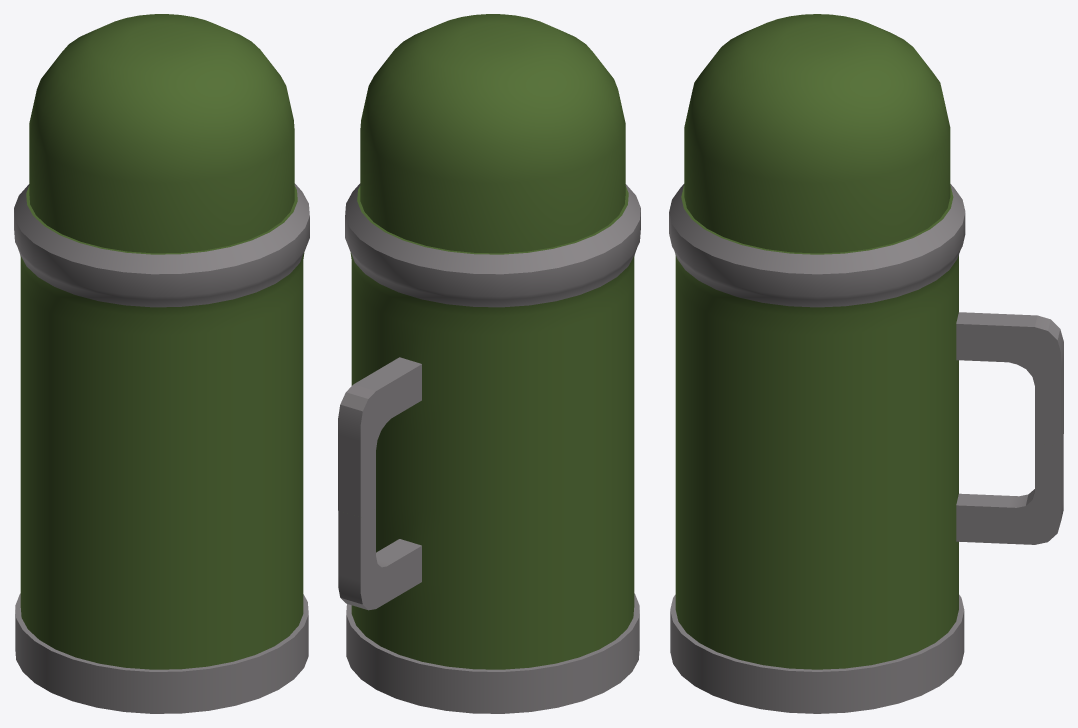
The model's file is Termo (1).fbx.
3 views of the same model, side by side, from view 1: azimuth 30°, elevation 25°; view 2: azimuth 150°, elevation 25°; view 3: azimuth 270°, elevation 25° (orthographic).
Visible parts, largest first — view 1: Cylinder; view 2: Cylinder; view 3: Cylinder.
Part boxes in pixels (x1,y1,x2,y2): Cylinder: (14, 14, 309, 713); Cylinder: (338, 14, 640, 713); Cylinder: (669, 14, 1063, 713).
Size of the model in its own units: 201 by 461 by 268.
